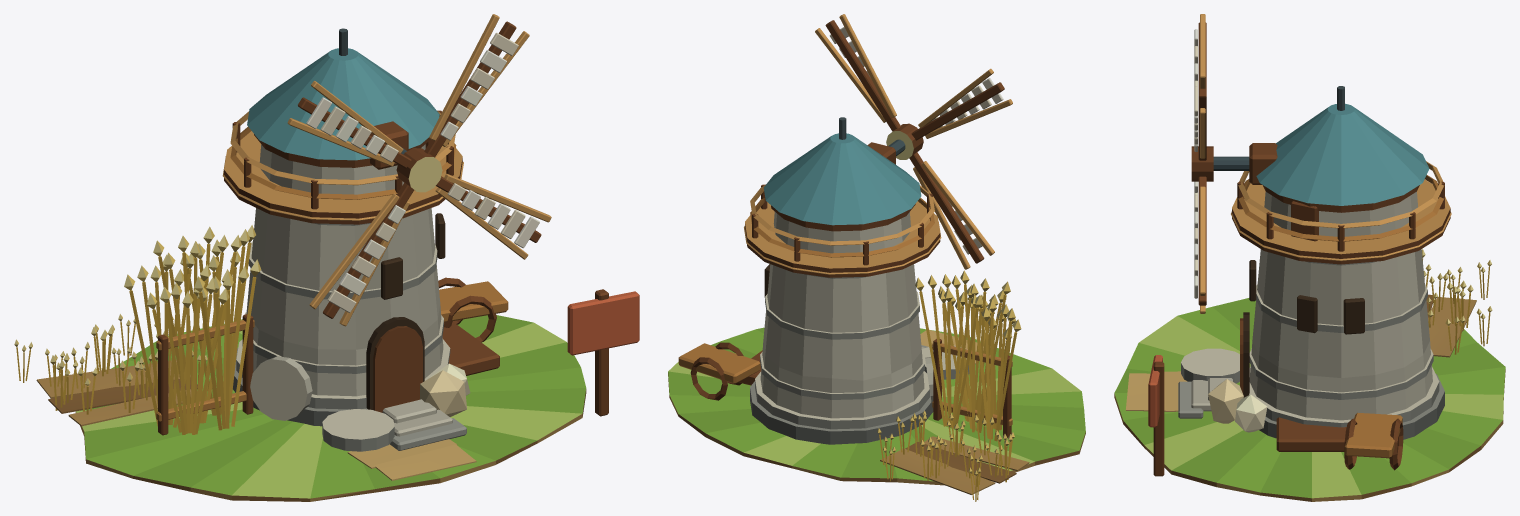
3 renders of one model, left to right at view 1: azimuth 30°, elevation 25°; view 2: azimuth 150°, elevation 25°; view 3: azimuth 270°, elevation 25°, orthographic. The views are drawn at different scales.
Visible parts, largest first — view 1: WK_WheatFarm_LOD2_Compact; view 2: WK_WheatFarm_LOD2_Compact; view 3: WK_WheatFarm_LOD2_Compact.
Part boxes in pixels (box(x1,y1,x2,y2)): WK_WheatFarm_LOD2_Compact: box(14, 14, 639, 501); WK_WheatFarm_LOD2_Compact: box(668, 14, 1085, 501); WK_WheatFarm_LOD2_Compact: box(1114, 14, 1505, 501).
Bounding box in the file's own units: 12.46 × 10.09 × 9.66.
